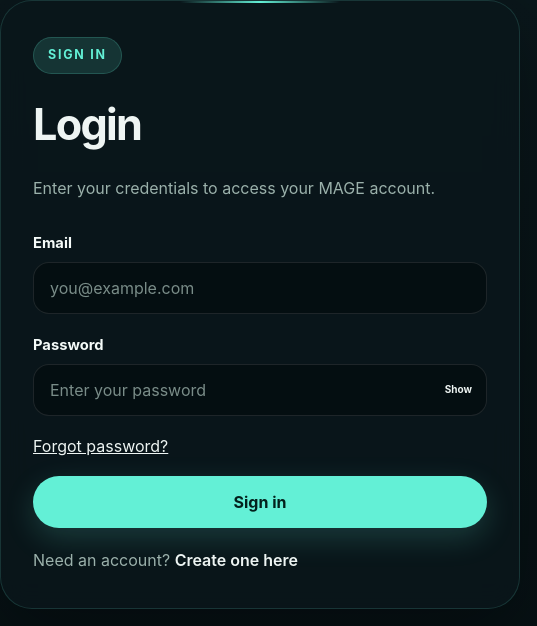
Test: LoginPage › shows required-field validation errors
The width and height of the screenshot is (537, 626).
Click the button "Sign in" at (260, 502), box [33,476,487,528]
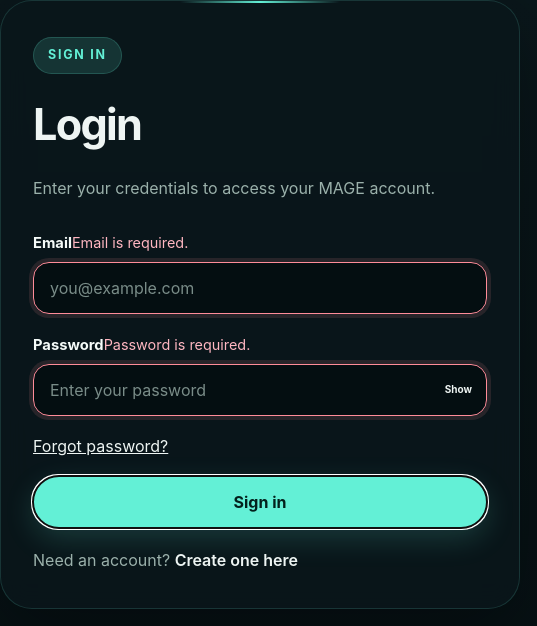
Expected: the text "Email is required." is shown, [72,234,188,251]
Expected: the text "Password is required." is shown, [104,336,250,353]
